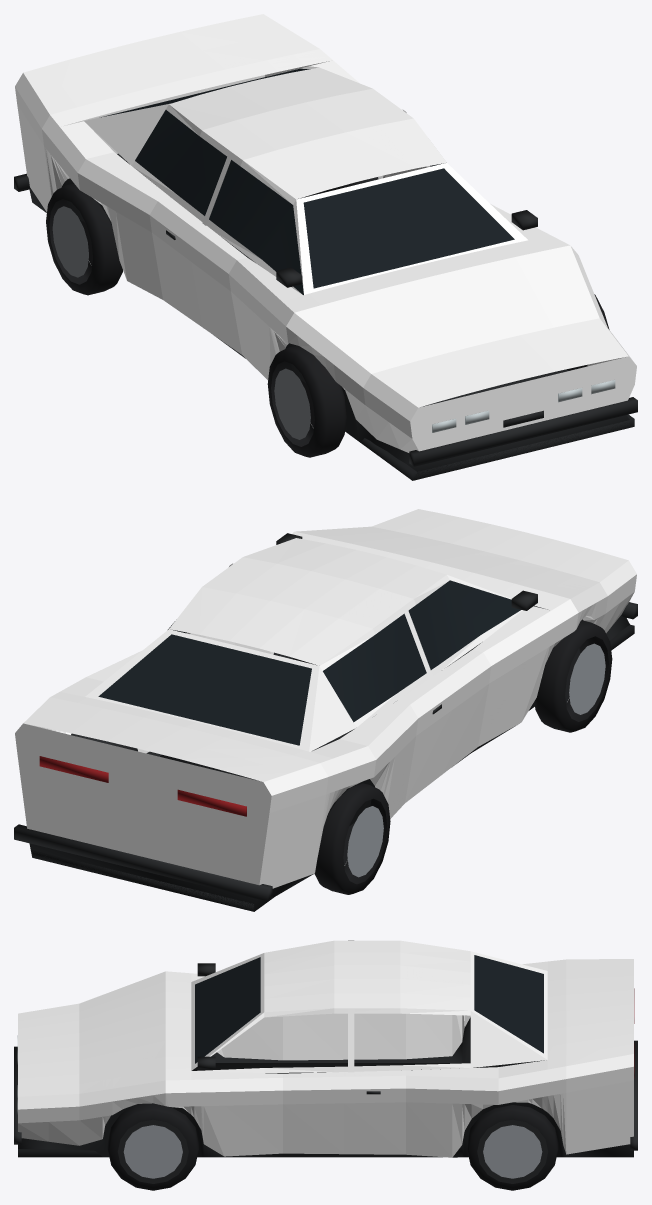
File: rauhe_argila.glb
3 views of the same model, one above another, from view 1: azimuth 30°, elevation 25°; view 2: azimuth 150°, elevation 25°; view 3: azimuth 270°, elevation 25° (orthographic). The views are drawn at different scales.
Visible parts, largest first — view 1: Body_Paint, Body_Details, Mount_FrontLeft_Wheel_Details, Mount_RearLeft_Wheel_Details; view 2: Body_Paint, Body_Details, Mount_FrontLeft_Wheel_Details, Mount_RearLeft_Wheel_Details; view 3: Body_Paint, Body_Details, Mount_FrontRight_Wheel_Details, Mount_RearRight_Wheel_Details.
Boxes of the visible parts, bbox=[...] form: Body_Paint: bbox=[15, 14, 636, 452]; Body_Details: bbox=[14, 68, 637, 480]; Mount_FrontLeft_Wheel_Details: bbox=[267, 345, 346, 457]; Mount_RearLeft_Wheel_Details: bbox=[46, 183, 122, 295]; Body_Paint: bbox=[15, 509, 636, 888]; Body_Details: bbox=[14, 533, 637, 911]; Mount_FrontLeft_Wheel_Details: bbox=[534, 620, 612, 732]; Mount_RearLeft_Wheel_Details: bbox=[314, 783, 390, 894]; Body_Paint: bbox=[18, 940, 633, 1157]; Body_Details: bbox=[14, 955, 637, 1157]; Mount_FrontRight_Wheel_Details: bbox=[107, 1103, 198, 1190]; Mount_RearRight_Wheel_Details: bbox=[467, 1105, 558, 1190].
Size of the model in its own units: 1.99 by 1.28 by 4.45.
Materials: 2 (1 with a texture image).
